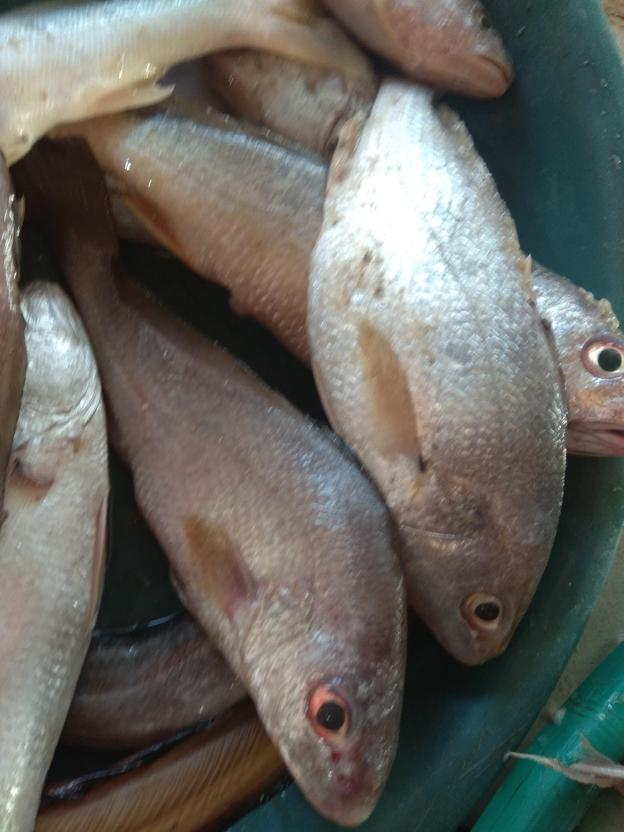Fish head: (248, 631, 399, 826), (397, 488, 551, 668), (534, 281, 624, 456), (15, 281, 105, 456), (394, 1, 515, 96)
Fish tail: (36, 136, 117, 255)
